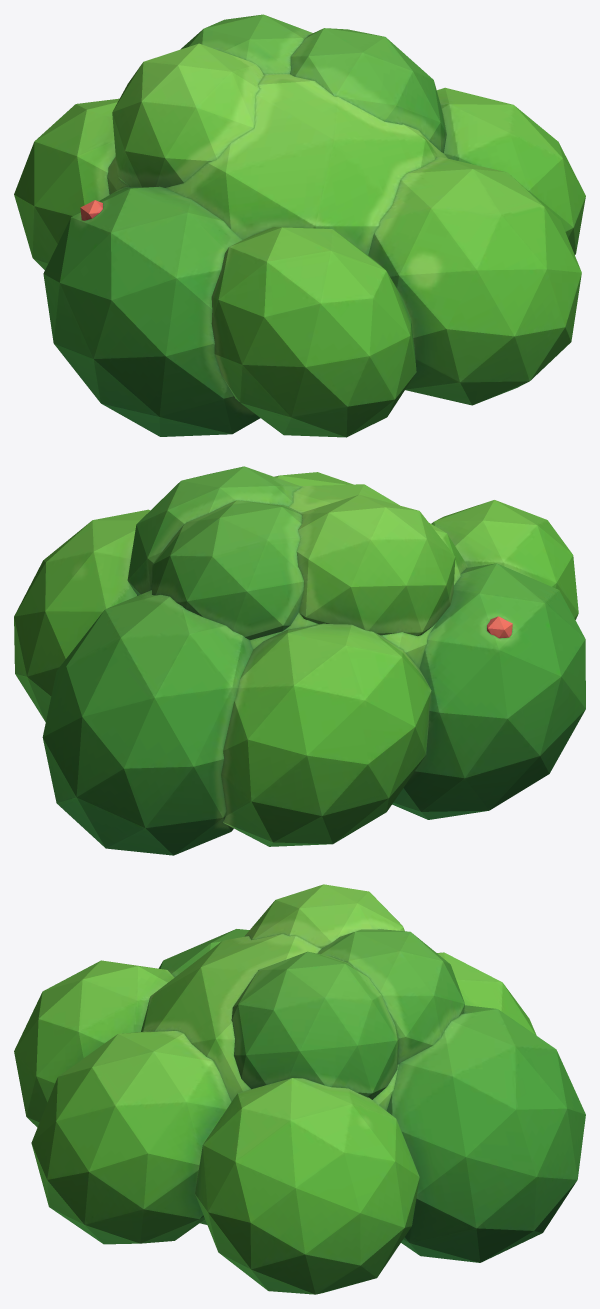
Rendered from prop_bush.glb.
3 views of the same model, one above another, from view 1: azimuth 30°, elevation 25°; view 2: azimuth 150°, elevation 25°; view 3: azimuth 270°, elevation 25° (orthographic). The views are drawn at different scales.
Parts seen in each view (by area): view 1: prop; view 2: prop; view 3: prop.
Boxes of the visible parts, bbox=[...] form: prop: bbox=[14, 14, 585, 437]; prop: bbox=[14, 466, 585, 855]; prop: bbox=[14, 884, 585, 1294].
Bounding box in the file's own units: 5.94 × 3.51 × 6.11.
1 material, 1 textured.
